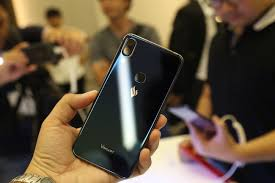vsmart: (68, 32, 184, 179)
